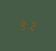nine: (19, 19, 26, 30)
two: (27, 19, 34, 31)
